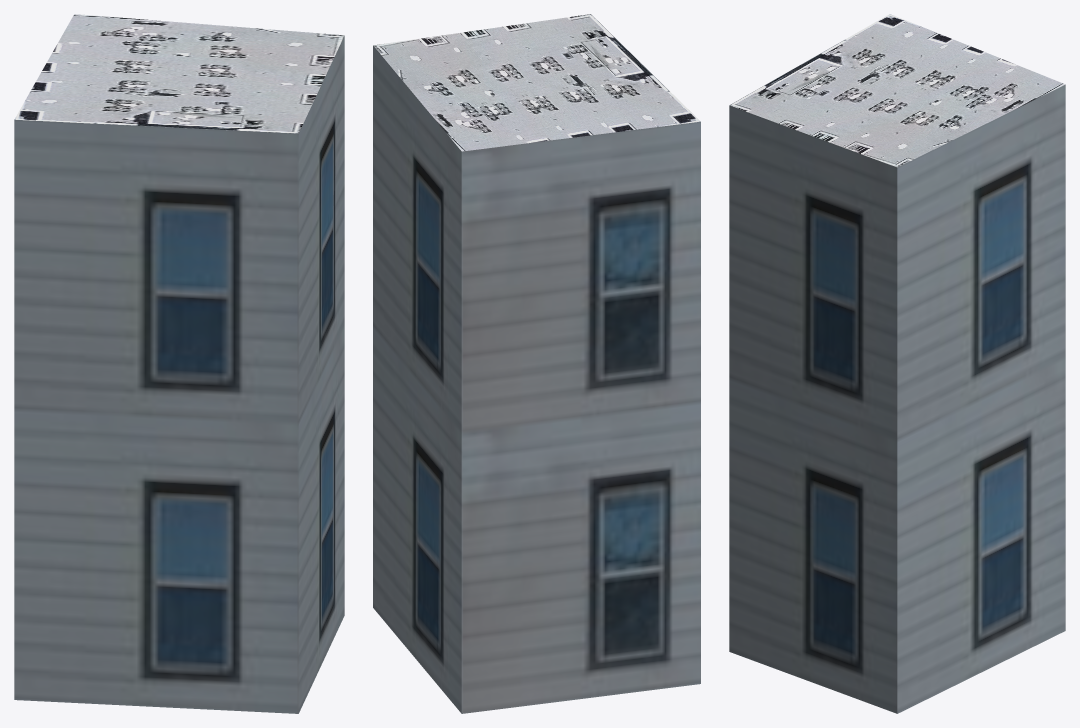
File: ResTex__284.fbx
3 views of the same model, side by side, from view 1: azimuth 30°, elevation 25°; view 2: azimuth 150°, elevation 25°; view 3: azimuth 270°, elevation 25° (orthographic). The views are drawn at different scales.
Parts seen in each view (by area): view 1: CityEngineMaterial_18_m, CityEngineMaterial_8_m; view 2: CityEngineMaterial_18_m, CityEngineMaterial_8_m; view 3: CityEngineMaterial_18_m, CityEngineMaterial_8_m.
Boxes of the visible parts, bbox=[...] form: CityEngineMaterial_18_m: bbox=[14, 36, 344, 713]; CityEngineMaterial_8_m: bbox=[14, 14, 344, 133]; CityEngineMaterial_18_m: bbox=[373, 46, 700, 713]; CityEngineMaterial_8_m: bbox=[373, 14, 700, 151]; CityEngineMaterial_18_m: bbox=[729, 84, 1065, 713]; CityEngineMaterial_8_m: bbox=[729, 14, 1065, 167].
Size of the model in its own units: 3.62 by 6 by 3.35.
Materials: 2 (2 with a texture image).
